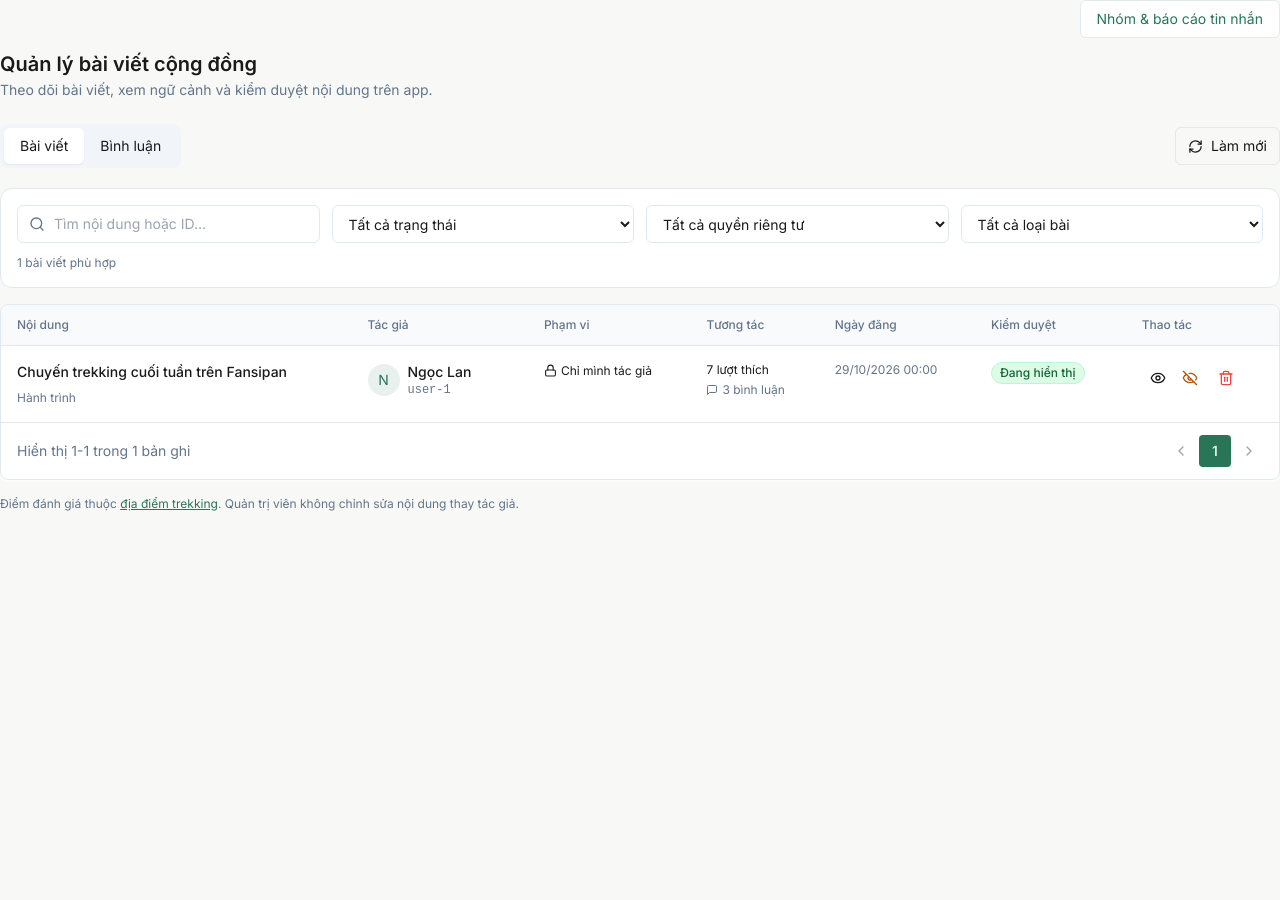
it: opens full post detail with comments scoped to the selected post
The image size is (1280, 900).
Click the button named "Xem post-1": (1158, 378) [1142, 362, 1174, 394]
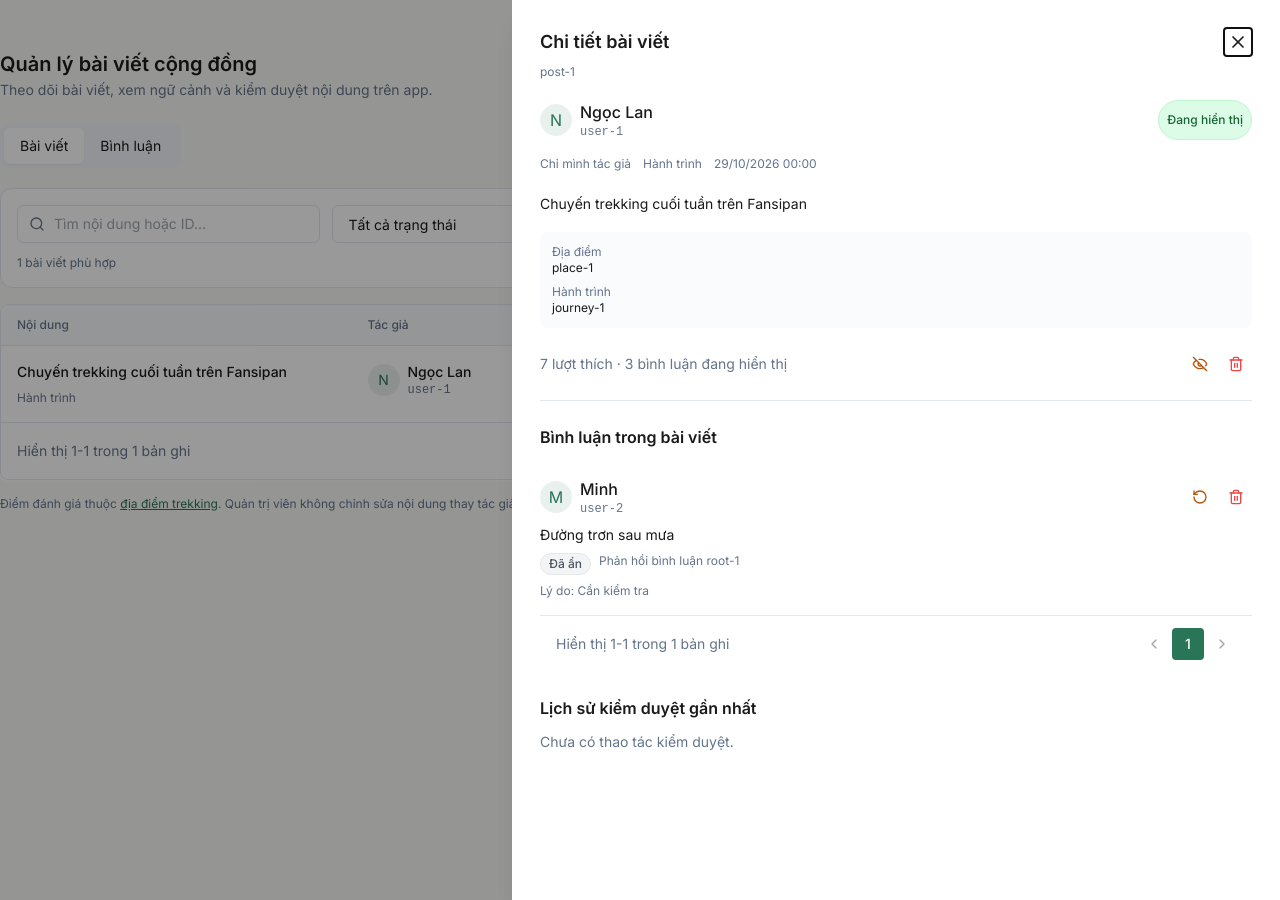
Expected: the text "Đường trơn sau mưa" is shown, [540, 526, 674, 543]
Expected: the text "journey-1" is shown, [552, 300, 604, 315]
Expected: the text "Lý do: Cần kiểm tra" is shown, [540, 583, 649, 598]
